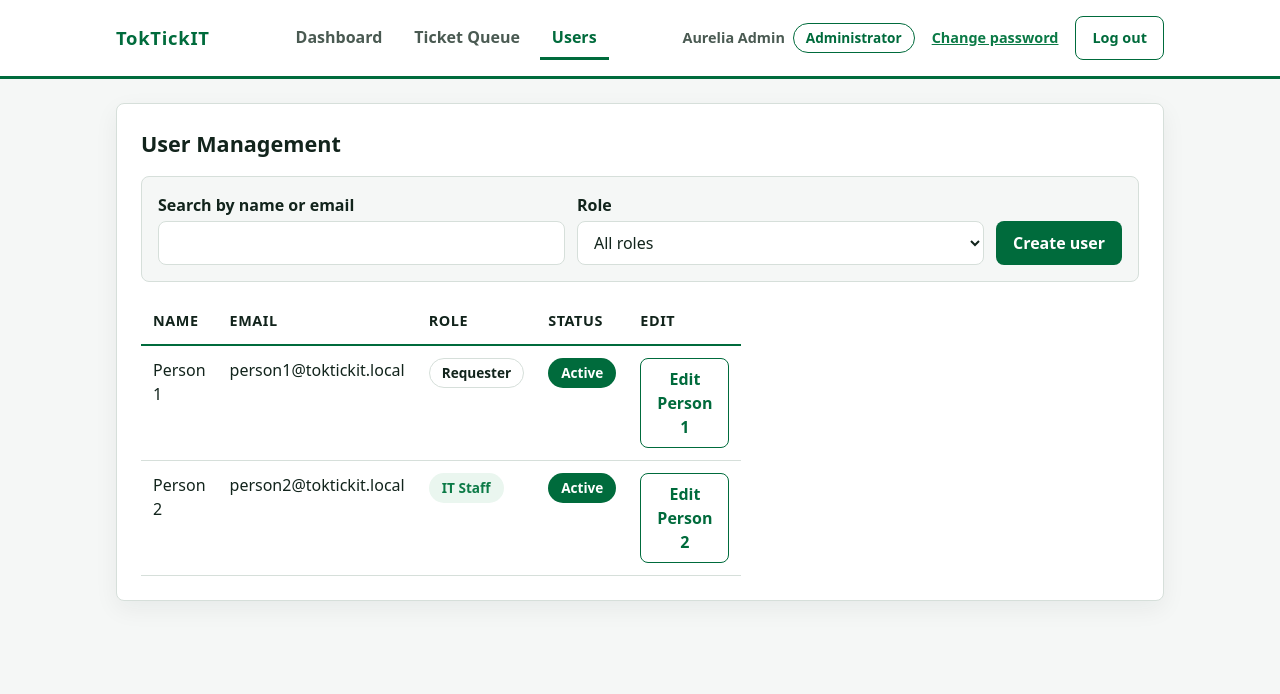
Test: User Management — editing › reports the tickets a deactivation unassigned
The image size is (1280, 694).
Expected: the heading "User Management" is shown, x1=141 y1=129 x2=341 y2=158
Step 1. Click the button "Edit Person 2" → (685, 518), box x1=640 y1=473 x2=729 y2=563
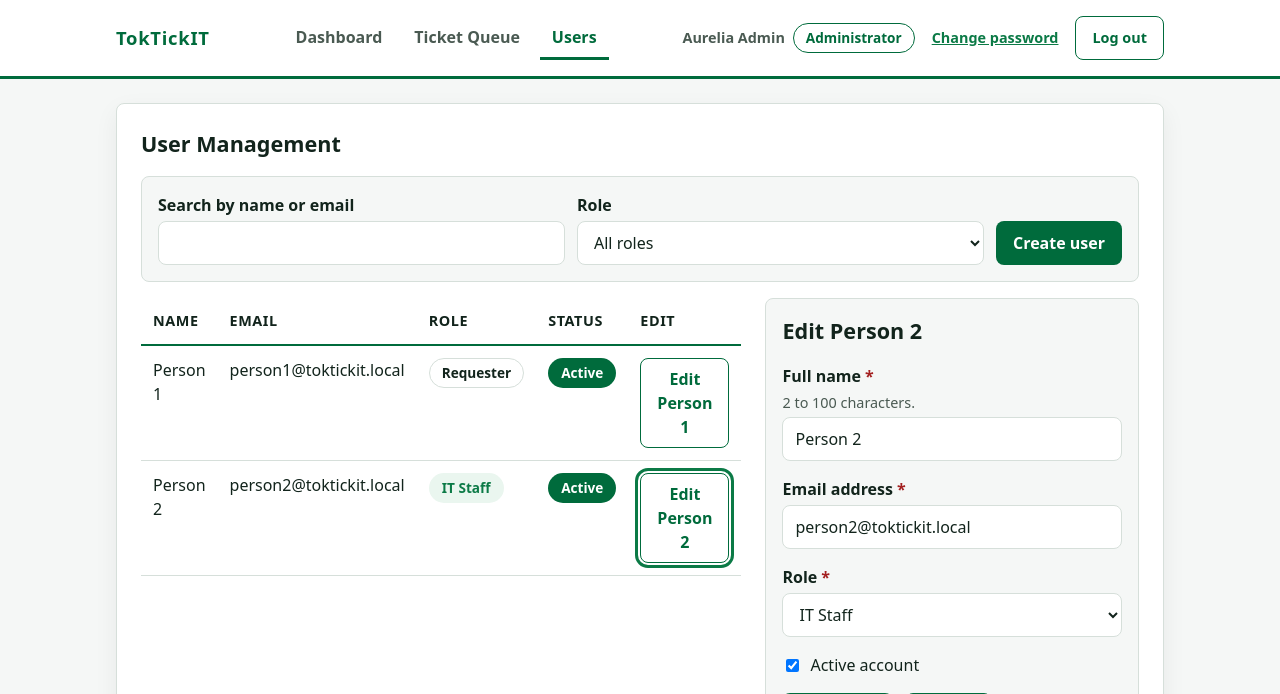
Step 2. Click the checkbox labelled "Active account" → (793, 665), box x1=786 y1=659 x2=800 y2=672
(page scrolled)
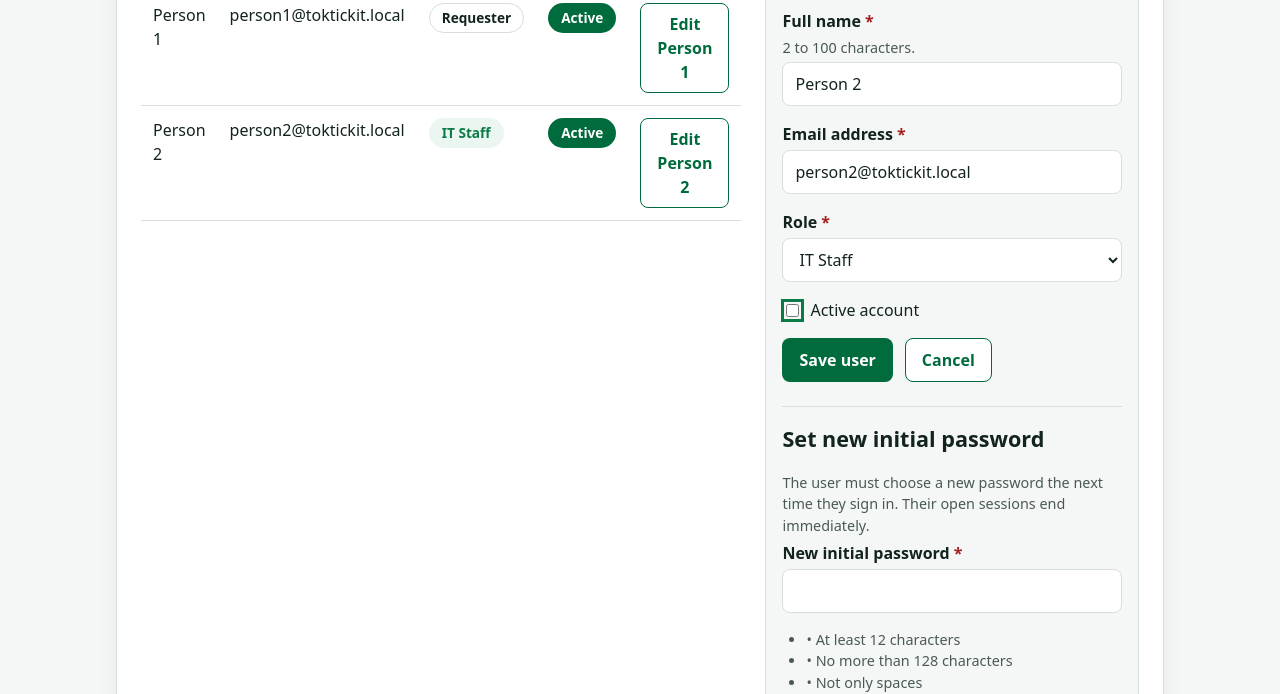
Step 3. Click the button "Save user" → (838, 360), box x1=782 y1=338 x2=893 y2=382
(page scrolled)
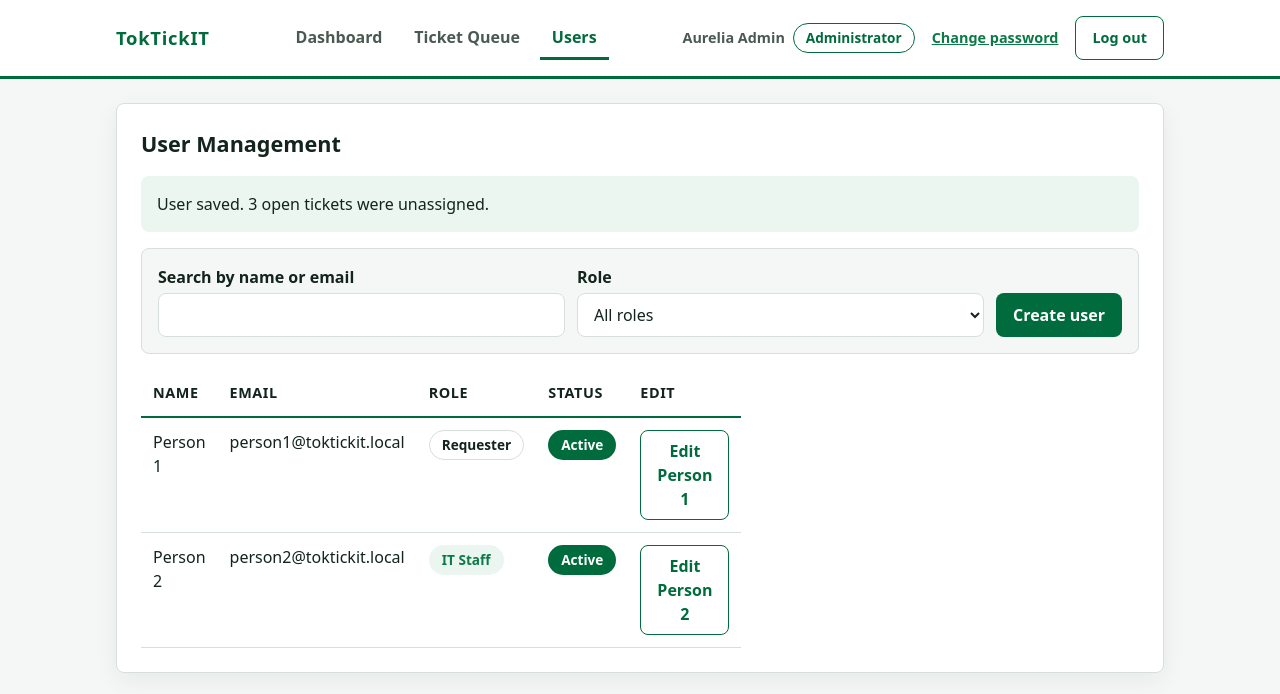
Now the text "User saved. 3 open tickets were unassigned." is shown, box x1=141 y1=176 x2=1139 y2=232
